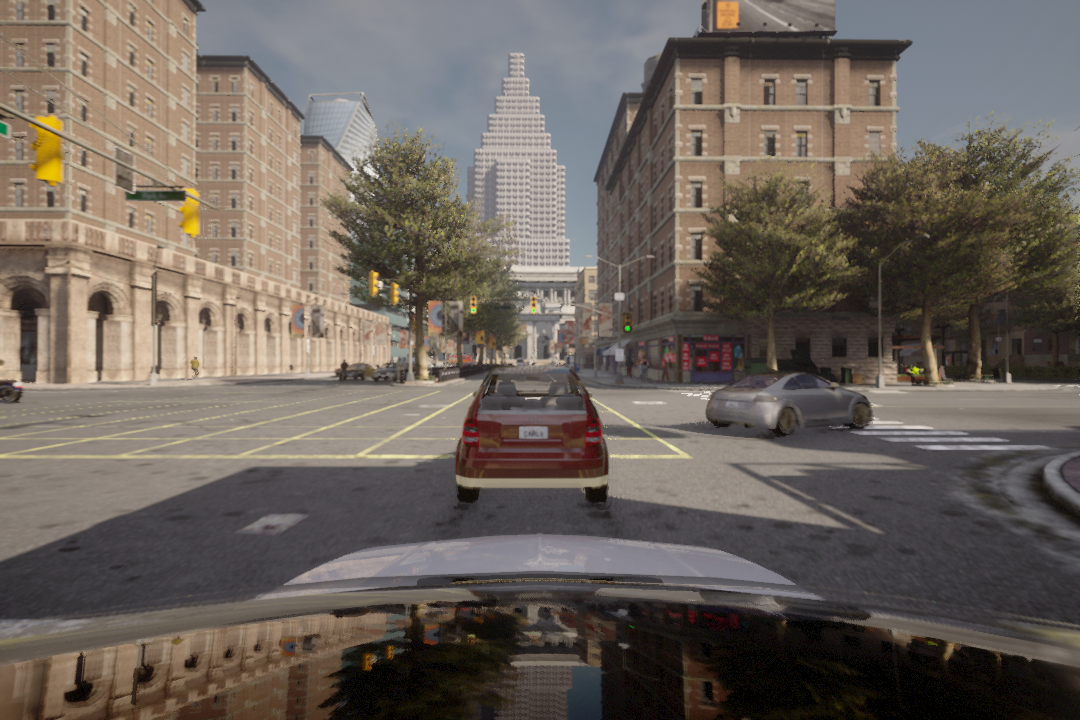TrafficLight: (622, 313, 637, 334), (468, 295, 481, 315), (531, 297, 537, 317)
